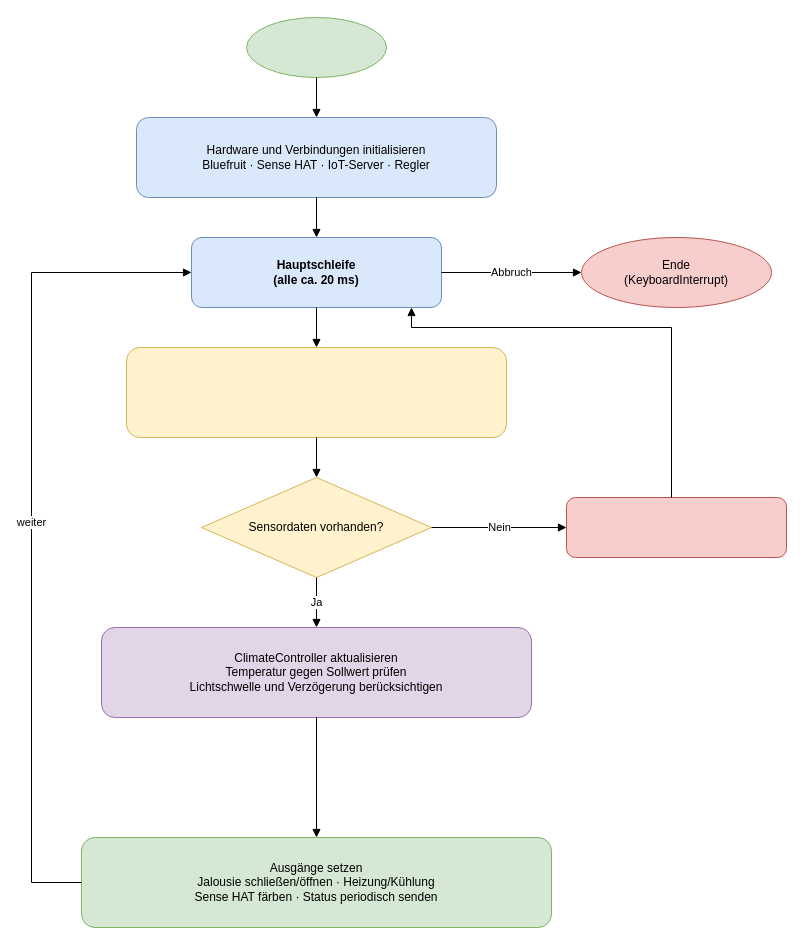
Image size: 804x945. Some labels were removed from this diagram. Each missing label, with the box of its shape:
Eingänge lesen Bluefruit: Temperatur + Licht IoT-Server: neue Parameter: (126, 346, 506, 438)
Start: (246, 16, 386, 78)
Warten / nächste Runde: (566, 496, 786, 558)
